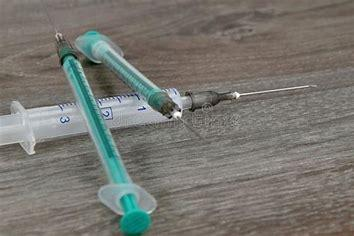Syringe: (49, 31, 216, 236), (3, 83, 328, 160)
